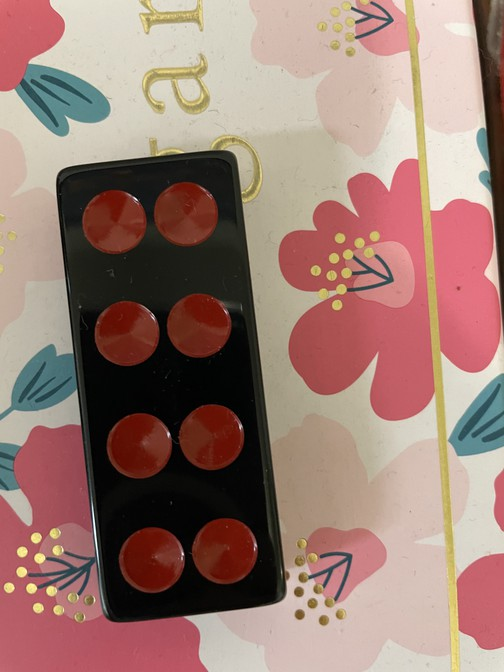man: (52, 152, 293, 623)
